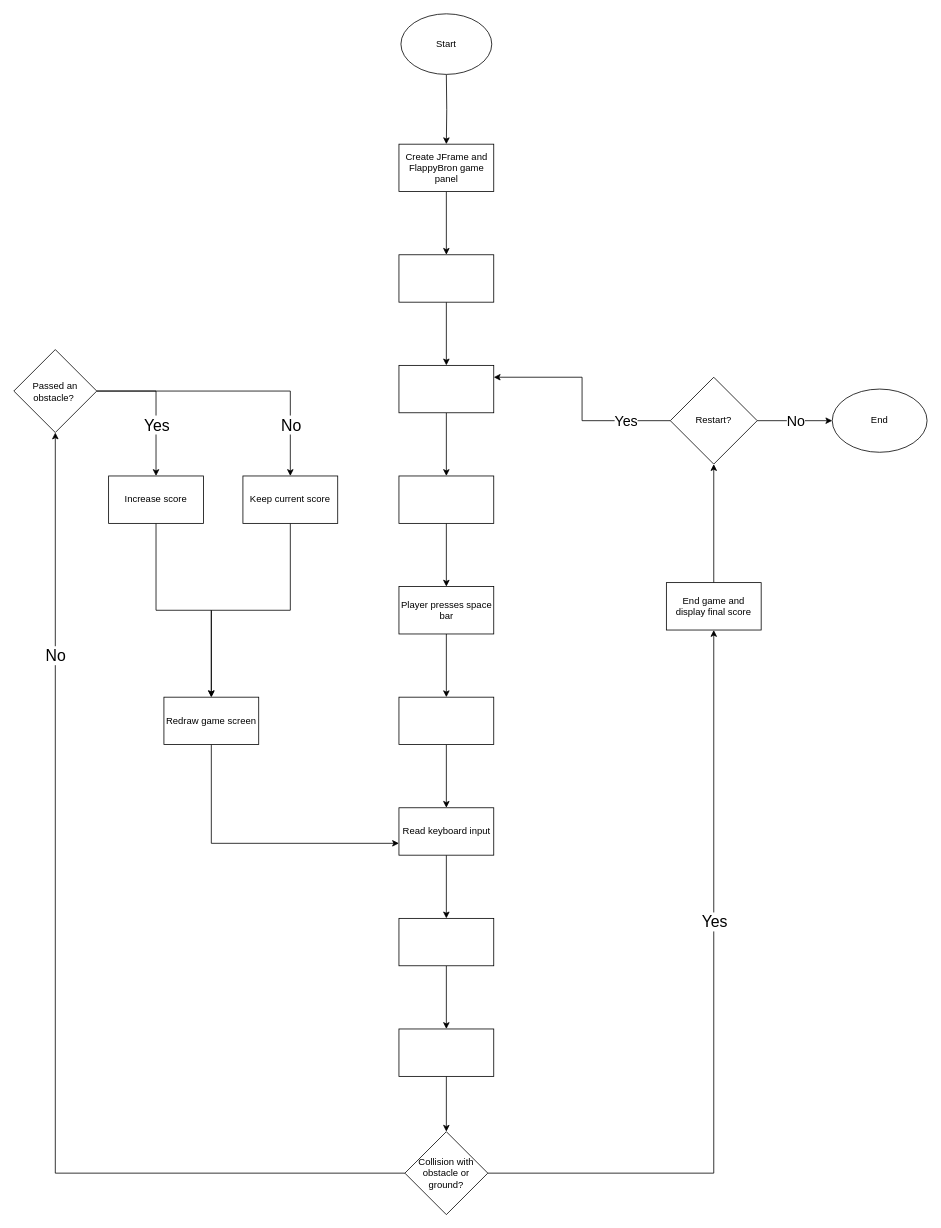
This 941x1228 diagram has some shape labels left out. The shapes that lost their labels are listed below. From the top down, each one's box as (x1, y1, x2, y2) in pixels, then its label:
(398, 254, 494, 302): Load game images and assets
(398, 365, 494, 413): Initialize player, obstacles, score, and game state
(398, 475, 494, 523): Display start screen
(398, 696, 494, 745): Start timer and game loop
(398, 918, 494, 966): Update LeBron's position using gravity and jump velocity
(398, 1028, 494, 1076): Move obstacles and generate new ones
